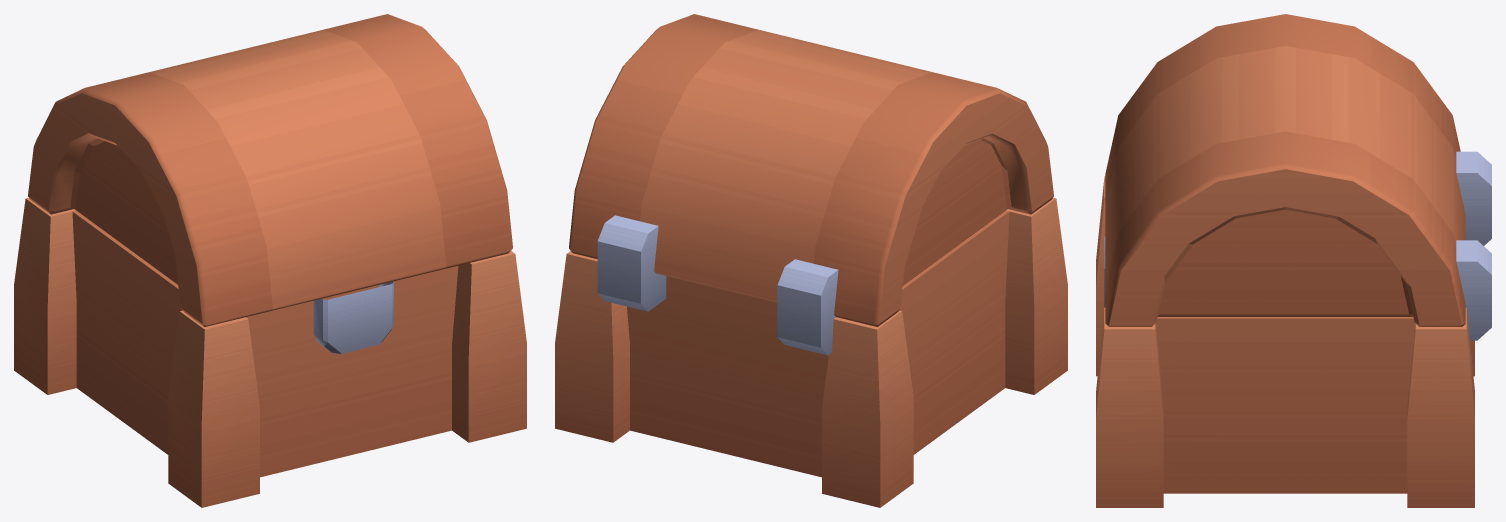
File: kenney-survival__chest.glb
3 views of the same model, side by side, from view 1: azimuth 30°, elevation 25°; view 2: azimuth 150°, elevation 25°; view 3: azimuth 270°, elevation 25° (orthographic).
Parts seen in each view (by area): view 1: lid, chest; view 2: lid, chest; view 3: lid, chest.
Part boxes in pixels (x1=…): lid: x1=28, y1=14, x2=512, y2=354; chest: x1=14, y1=197, x2=526, y2=507; lid: x1=569, y1=14, x2=1053, y2=326; chest: x1=555, y1=197, x2=1067, y2=507; lid: x1=1104, y1=14, x2=1465, y2=326; chest: x1=1096, y1=151, x2=1491, y2=507.
Bounding box in the file's own units: 0.2604 × 0.2572 × 0.272.
Materials: 1 (1 with a texture image).
